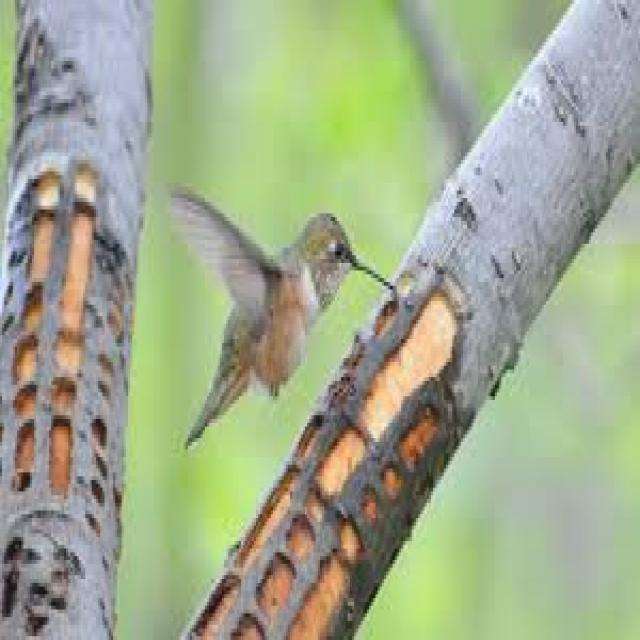Humming Bird: (168, 173, 395, 445)
